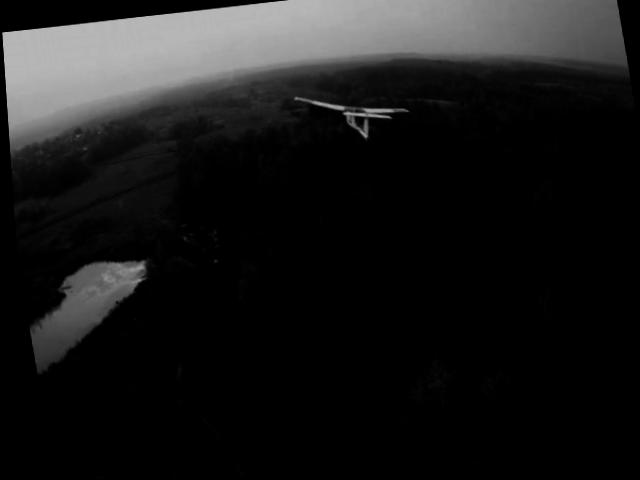hedef: (287, 80, 411, 154)
